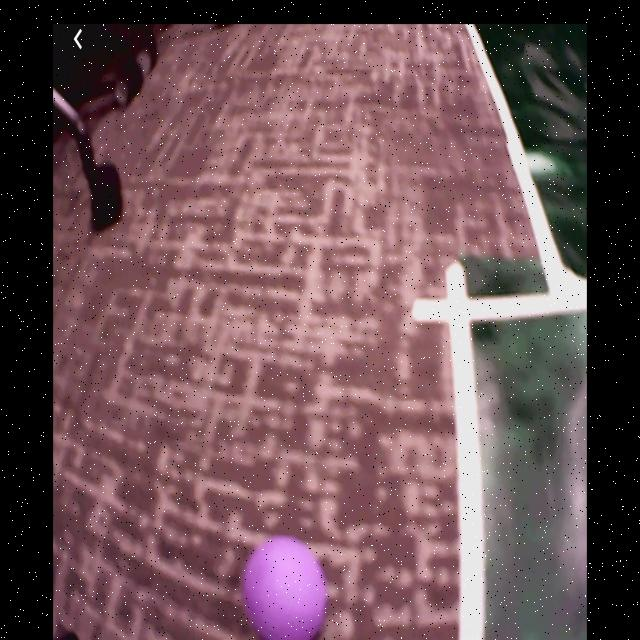ball: (242, 534, 330, 639)
